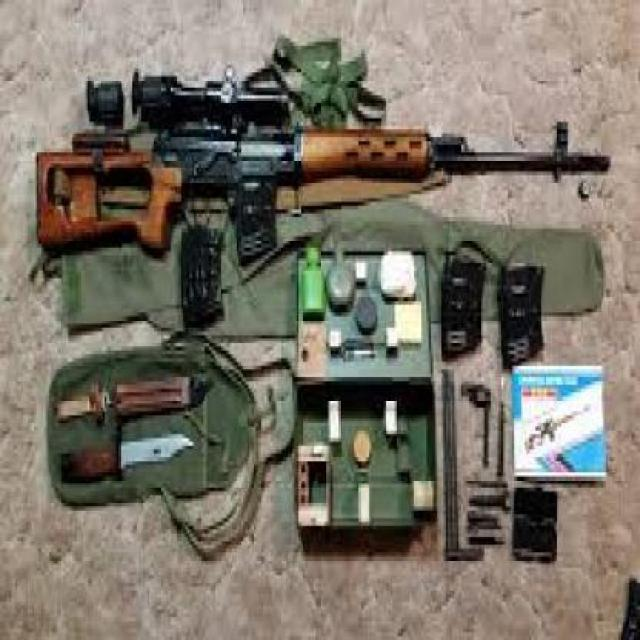weapon: (16, 52, 628, 329), (54, 419, 204, 495)
